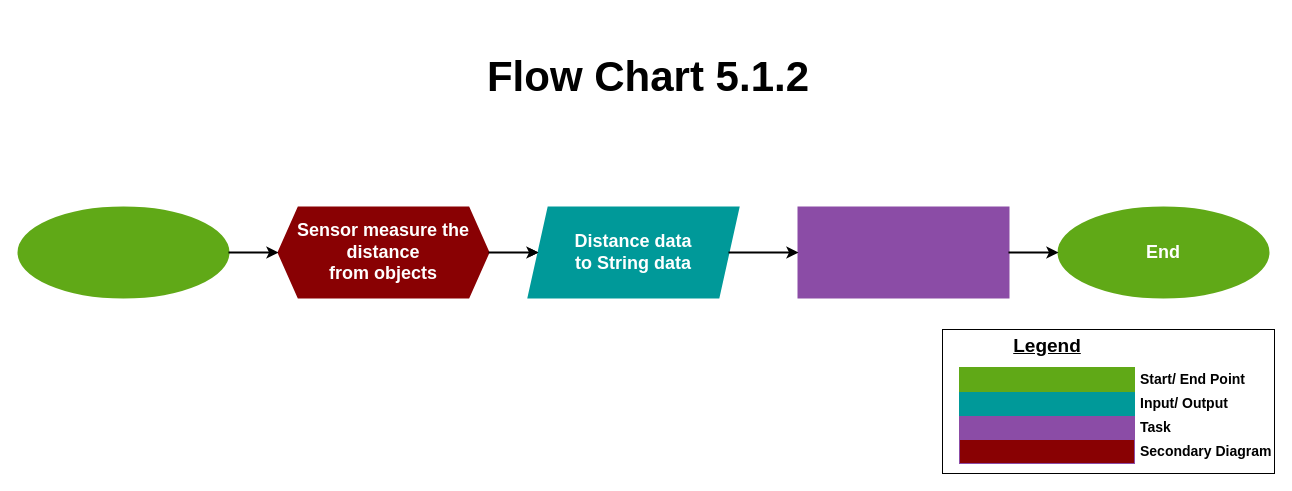
Some shapes in this 1292 by 491 pixel diagram are drawn without their labels. The shapes that lost their labels are listed below. From the top down, each one's centre as x and y in pixels, then its label:
(123,252): Start
(903,252): Send string data to central MCU through Zigbee
